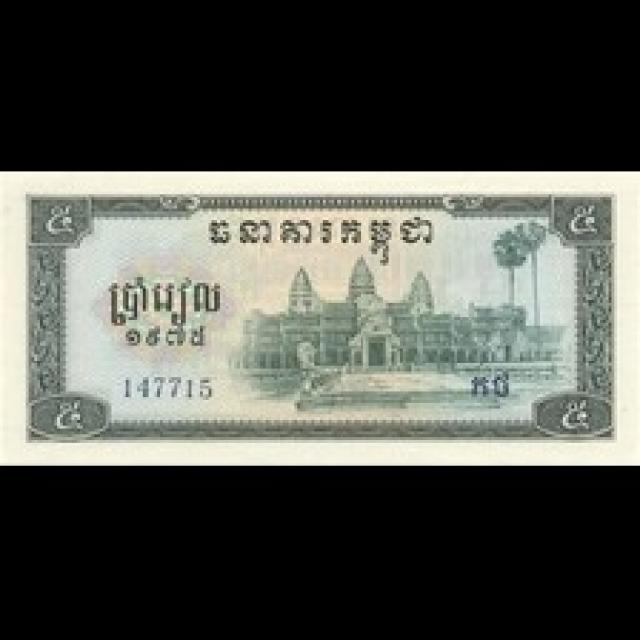banknote: (0, 173, 637, 463)
